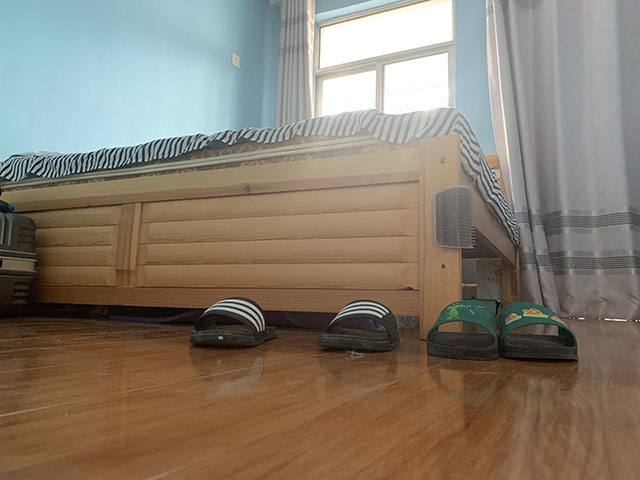bed: (1, 106, 522, 342)
curtain: (485, 1, 640, 322)
slippers: (316, 299, 402, 354), (189, 296, 278, 349), (499, 306, 578, 364), (425, 299, 503, 357)
